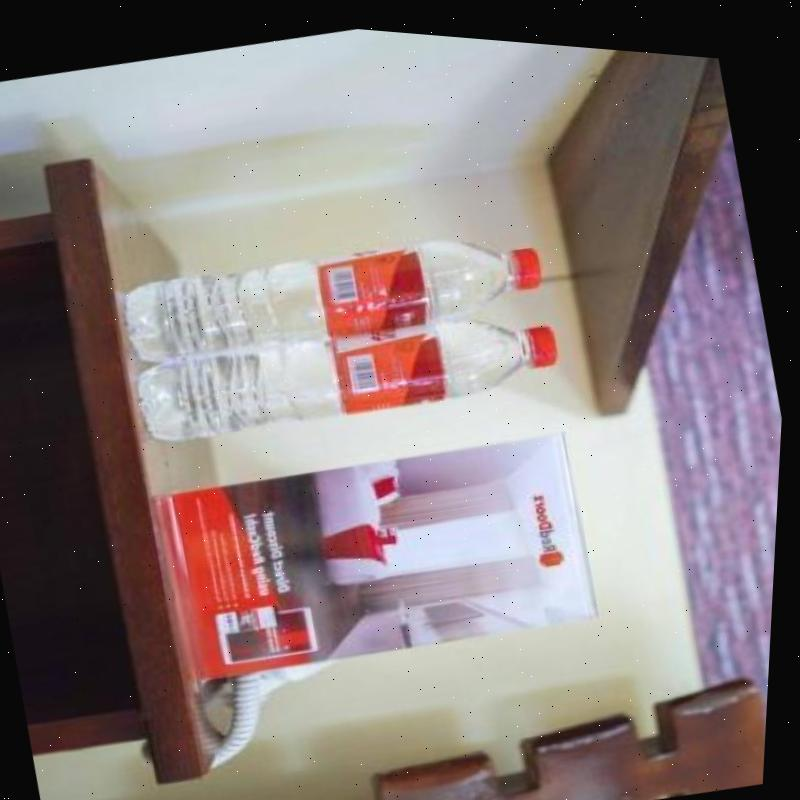botella: (115, 262, 578, 475), (104, 182, 563, 391)
